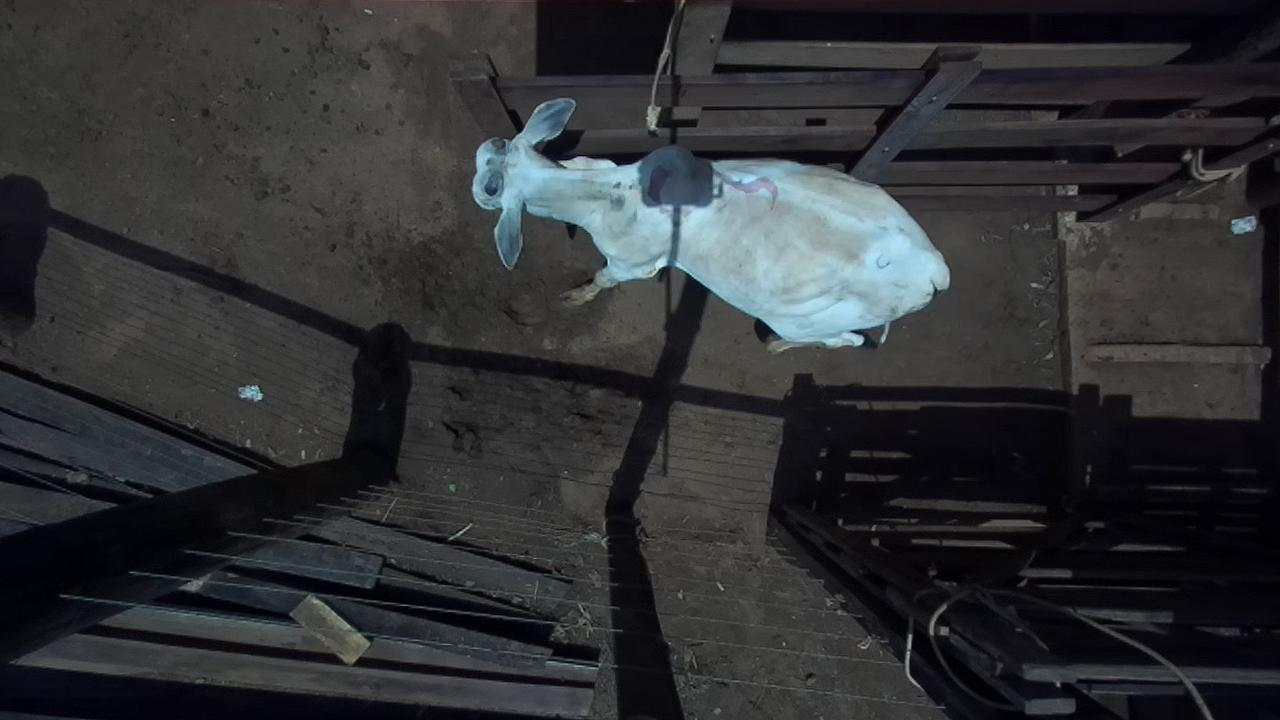cattle: (469, 96, 951, 355)
